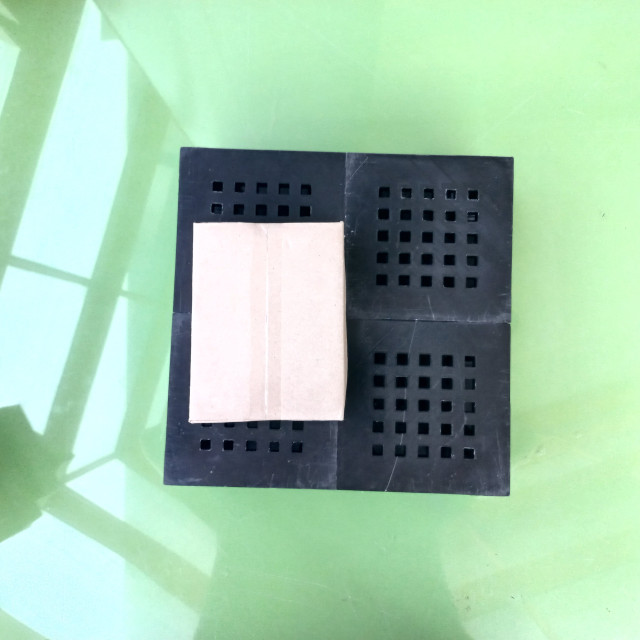box: (188, 217, 349, 428)
pallet: (166, 142, 515, 489)
